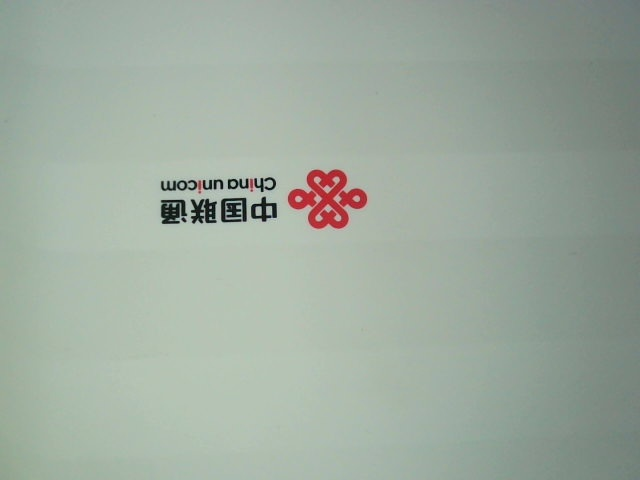AD_ChinaUnicom: (149, 161, 384, 245)
